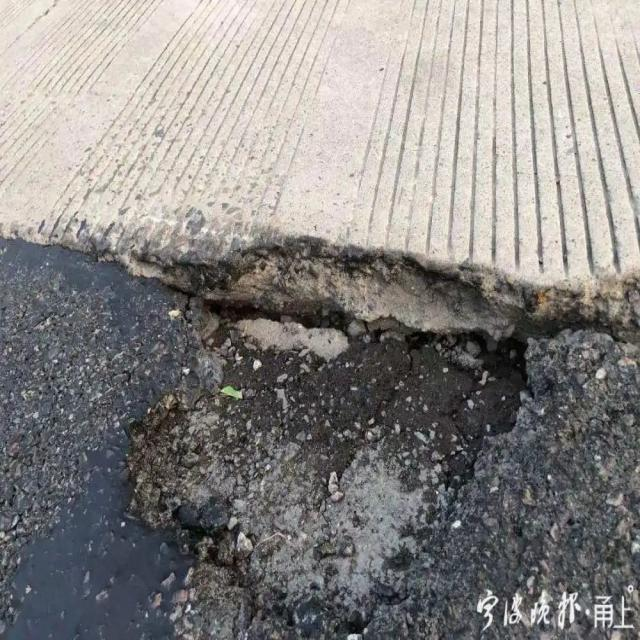Pothole: (107, 236, 536, 615)
